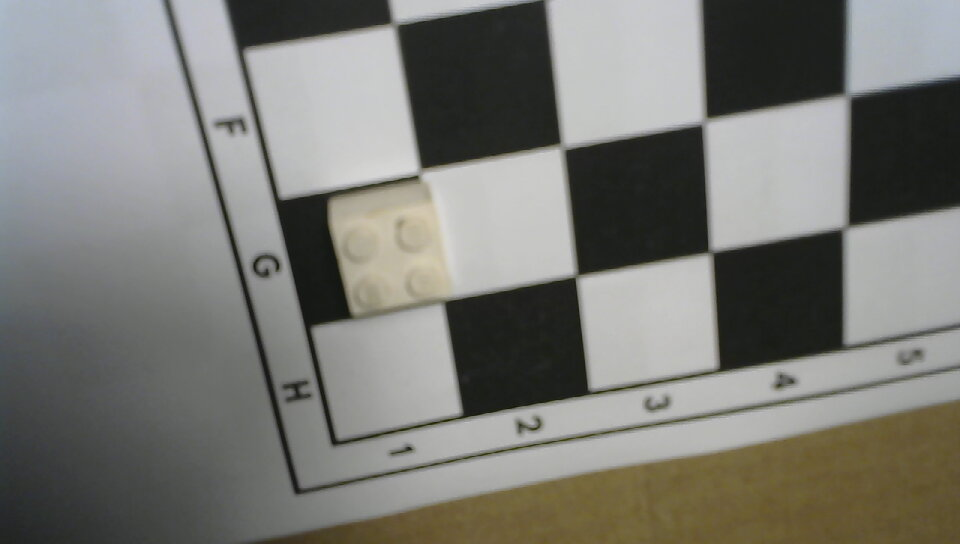wp: (318, 165, 473, 333)
